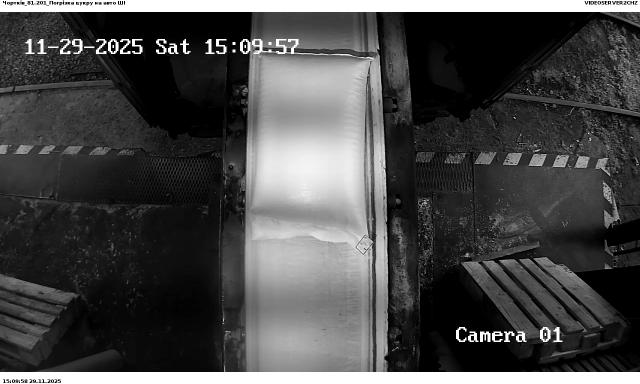bag: (250, 50, 375, 253)
